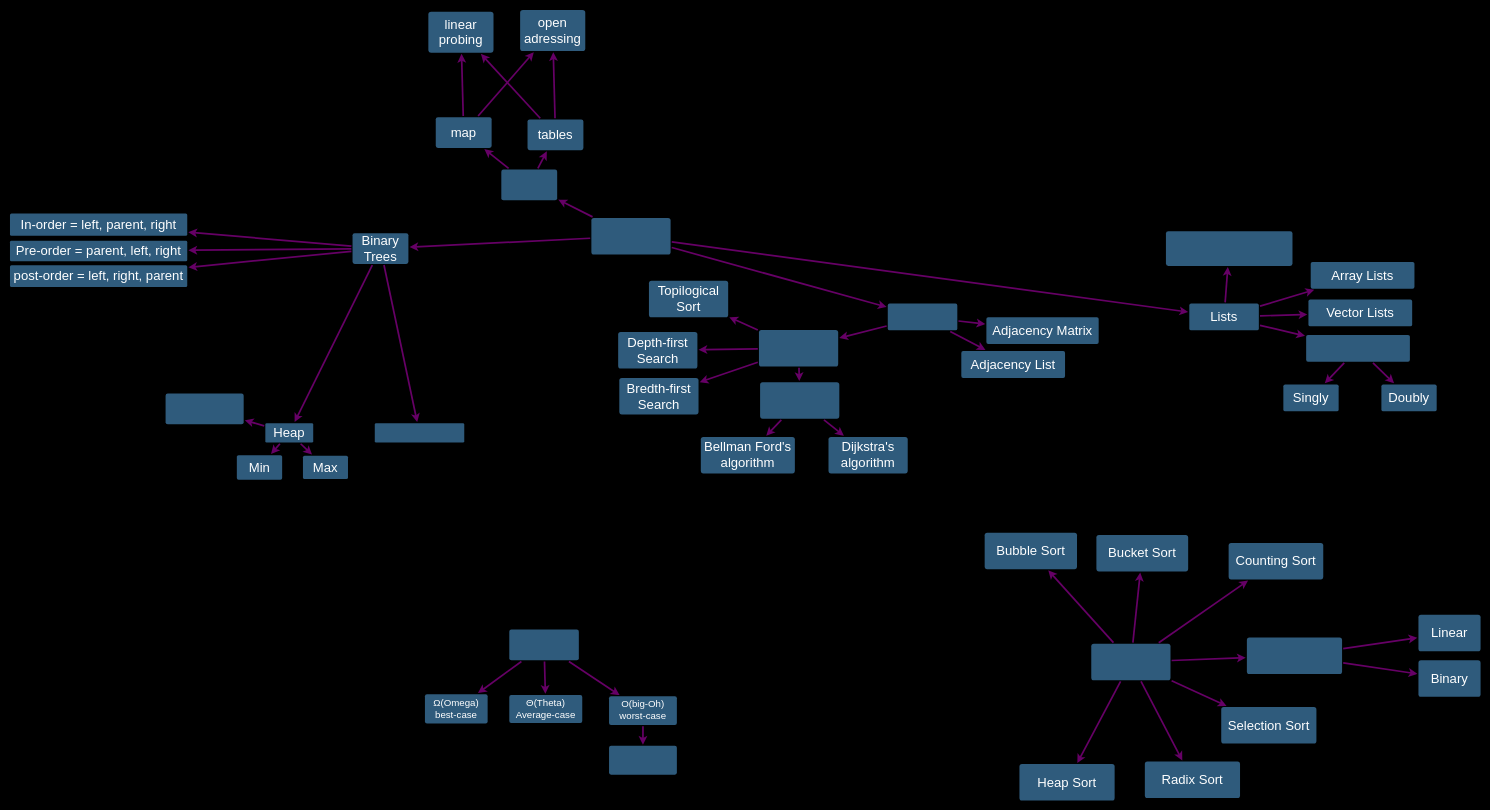
Some shapes in this 1490 by 810 pixel diagram are drawn without their labels. The centre of each missing label's shape, as x and y in pixels:
"asymptotically slower/faster" goes at pixel 643 760.
"Binary search" goes at pixel 419 432.
"Data structures" goes at pixel 630 236.
"Deletetion" goes at pixel 204 408.
"Graph" goes at pixel 922 316.
"Hash" goes at pixel 529 184.
"Insertion Sort" goes at pixel 1294 655.
"Linked List" goes at pixel 1358 348.
"Notations" goes at pixel 544 644.
"Shortest path" goes at pixel 799 400.
"Singelton element (empty list)" goes at pixel 1229 248.
"Sorting Algorithm" goes at pixel 1130 662.
"Traversal" goes at pixel 798 348.
